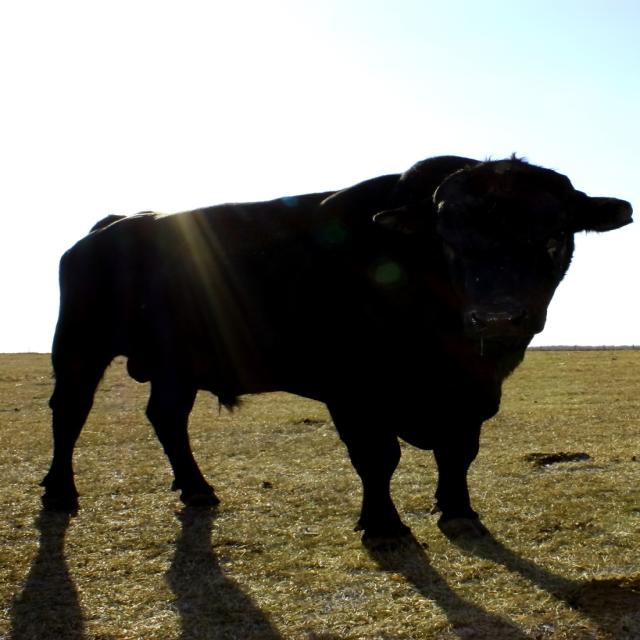Deer: (39, 152, 633, 540)
